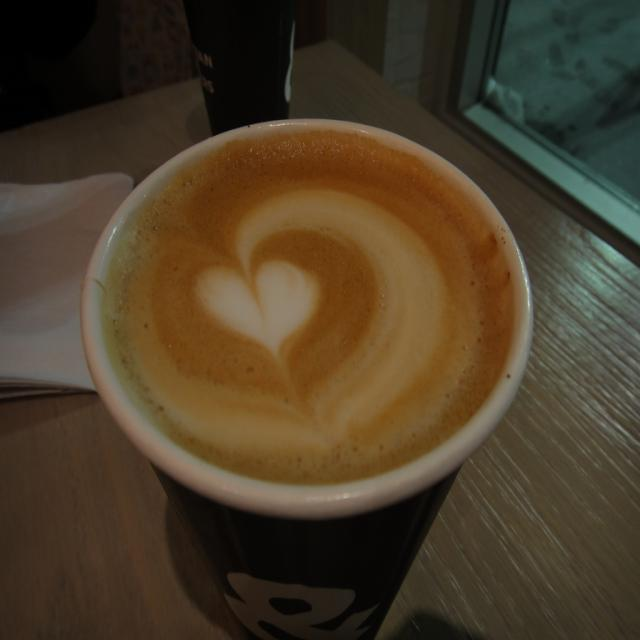Coffee: (117, 103, 538, 561)
